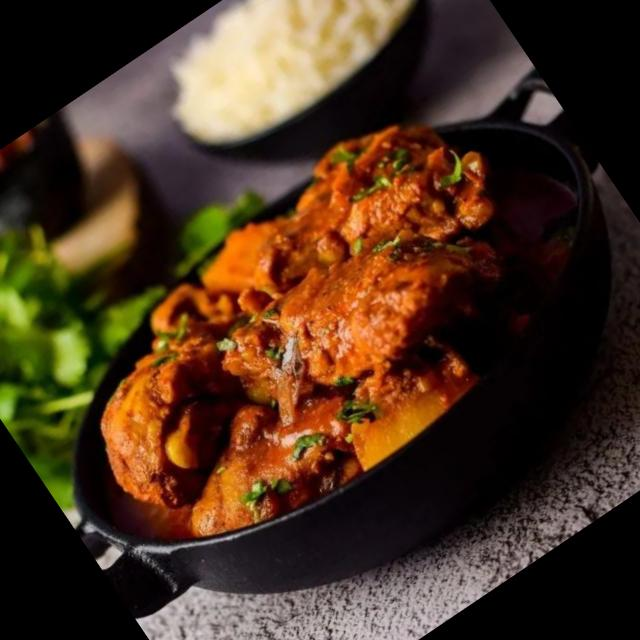chicken: (28, 88, 594, 577)
